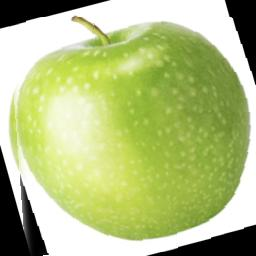Apple Fresh: (8, 17, 256, 256)
